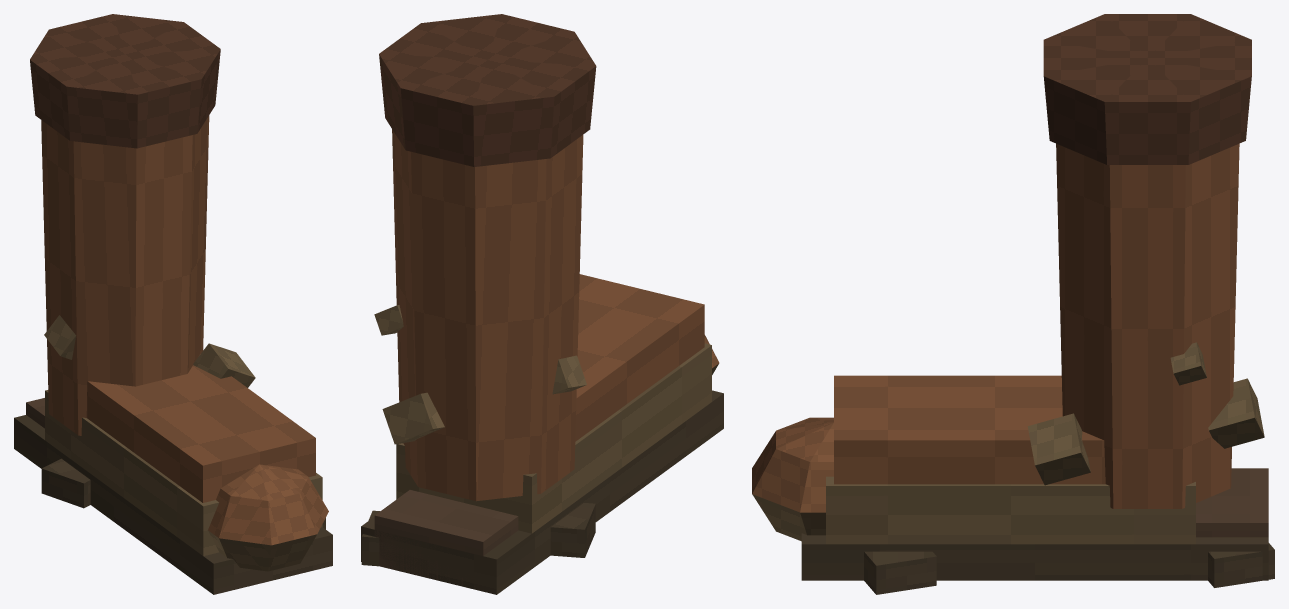
The model's file is muddy-boot.glb.
3 renders of one model, left to right at view 1: azimuth 30°, elevation 25°; view 2: azimuth 150°, elevation 25°; view 3: azimuth 270°, elevation 25°, orthographic. The views are drawn at different scales.
Visible parts, largest first — view 1: muddy-boot.001; view 2: muddy-boot.001; view 3: muddy-boot.001.
Boxes of the visible parts, <box> form: muddy-boot.001: <box>14,14,332,594</box>; muddy-boot.001: <box>361,14,723,594</box>; muddy-boot.001: <box>752,14,1274,594</box>.
Bounding box in the file's own units: 0.1419 × 0.335 × 0.3247.
1 material, 1 textured.
